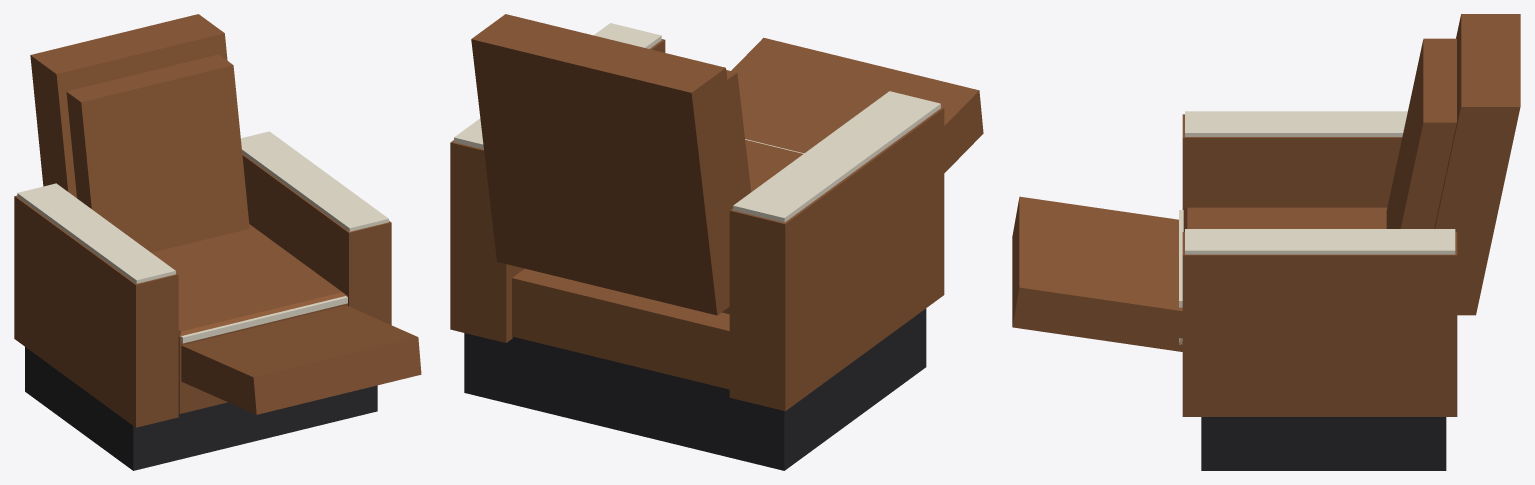
The model's file is FN_Chair_Recliner.obj.
The picture shows the model from 3 angles, left to right: view 1: azimuth 30°, elevation 25°; view 2: azimuth 150°, elevation 25°; view 3: azimuth 270°, elevation 25°; orthographic projection. The views are drawn at different scales.
Visible parts, largest first — view 1: FN_Chair_Recliner; view 2: FN_Chair_Recliner; view 3: FN_Chair_Recliner.
Part boxes in pixels (x1,y1,x2,y2): FN_Chair_Recliner: (14,14,421,470); FN_Chair_Recliner: (450,14,983,470); FN_Chair_Recliner: (1012,14,1520,470).
Bounding box in the file's own units: 0.9 × 1.02 × 1.37.
1 material, 1 textured.
